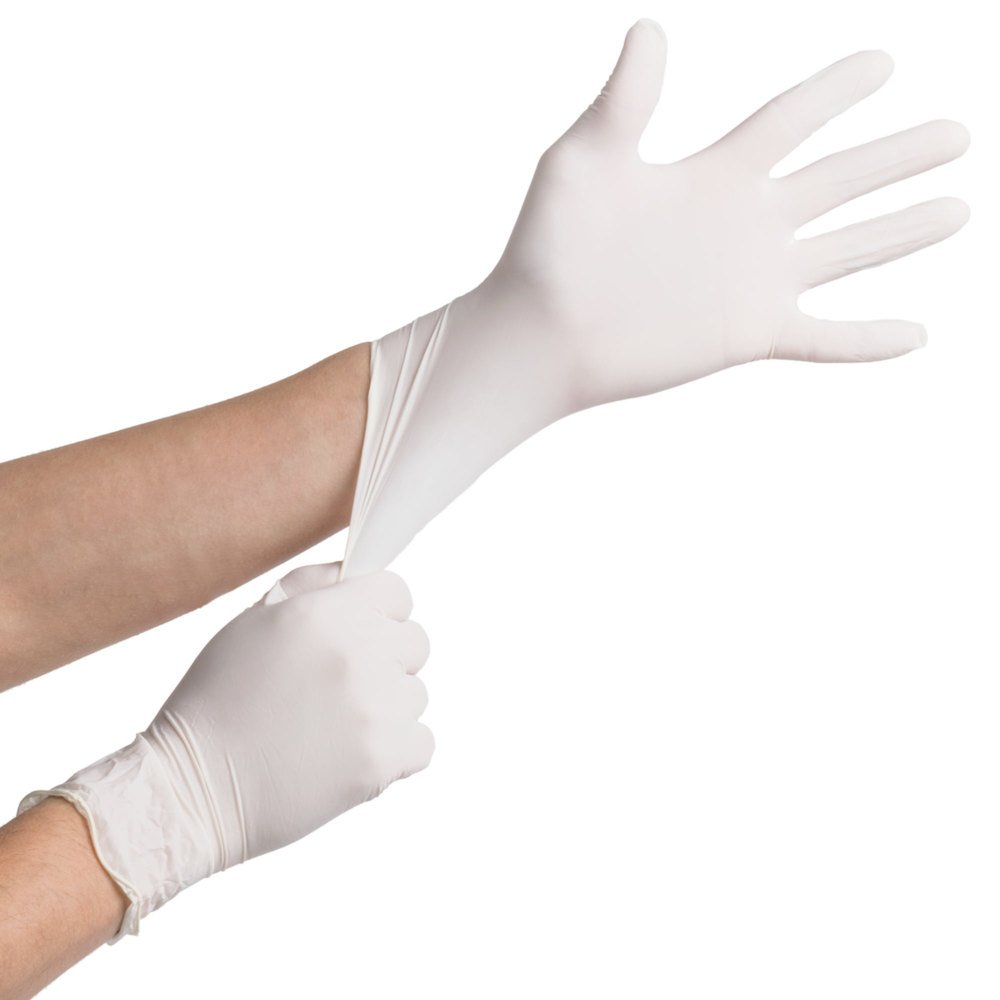Gloves: (414, 16, 974, 397), (118, 558, 453, 942)
